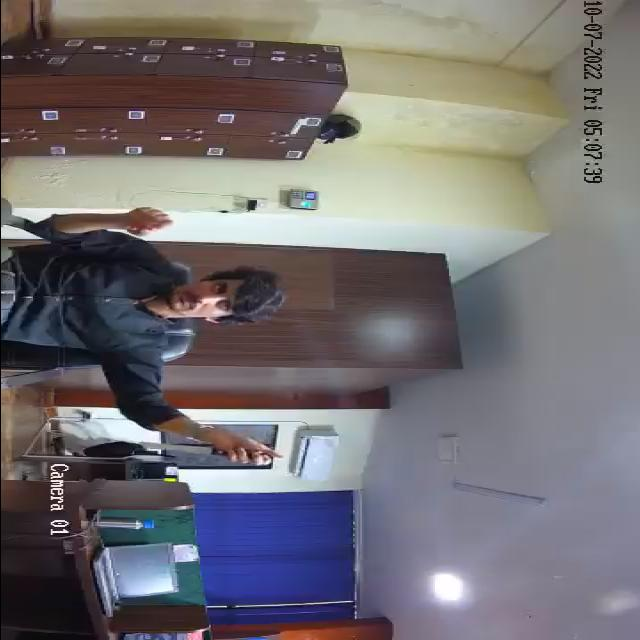Sharp-Object: (138, 439, 270, 460)
